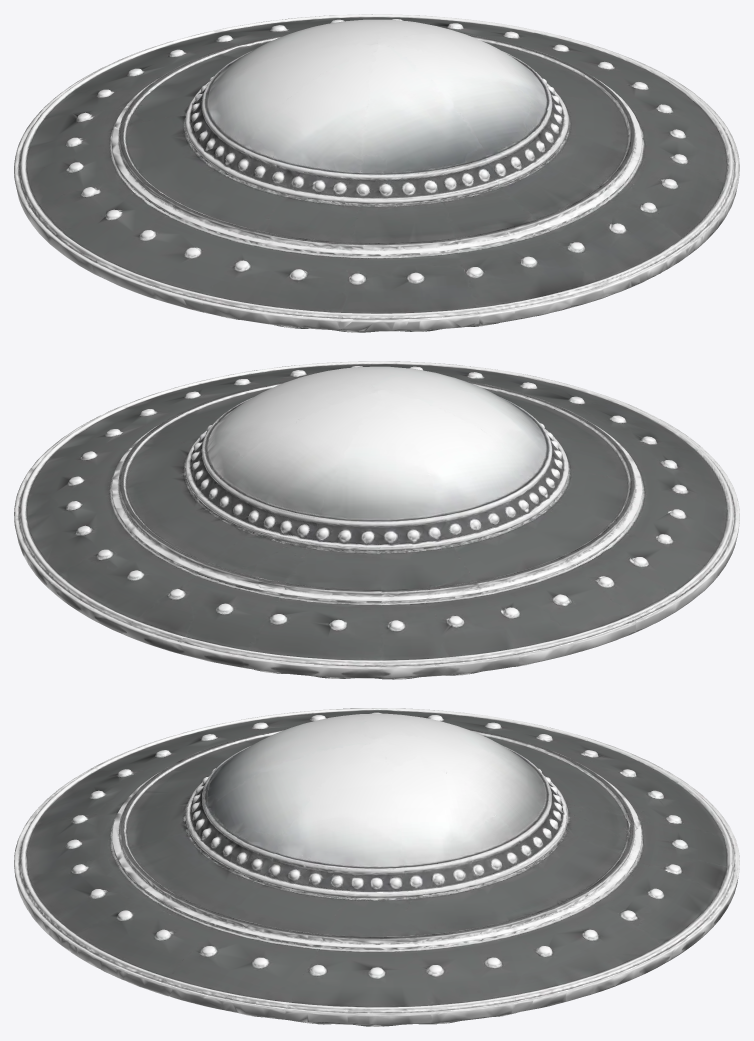
The model's file is saucer.glb.
3 views of the same model, one above another, from view 1: azimuth 30°, elevation 25°; view 2: azimuth 150°, elevation 25°; view 3: azimuth 270°, elevation 25° (orthographic).
Parts seen in each view (by area): view 1: mesh_node; view 2: mesh_node; view 3: mesh_node.
Boxes of the visible parts, x1,y1,x2,y2 form: mesh_node: (14,14,739,332); mesh_node: (14,361,739,679); mesh_node: (14,708,739,1026).
Size of the model in its own units: 1.9 by 0.6282 by 1.9.
Materials: 1 (1 with a texture image).
